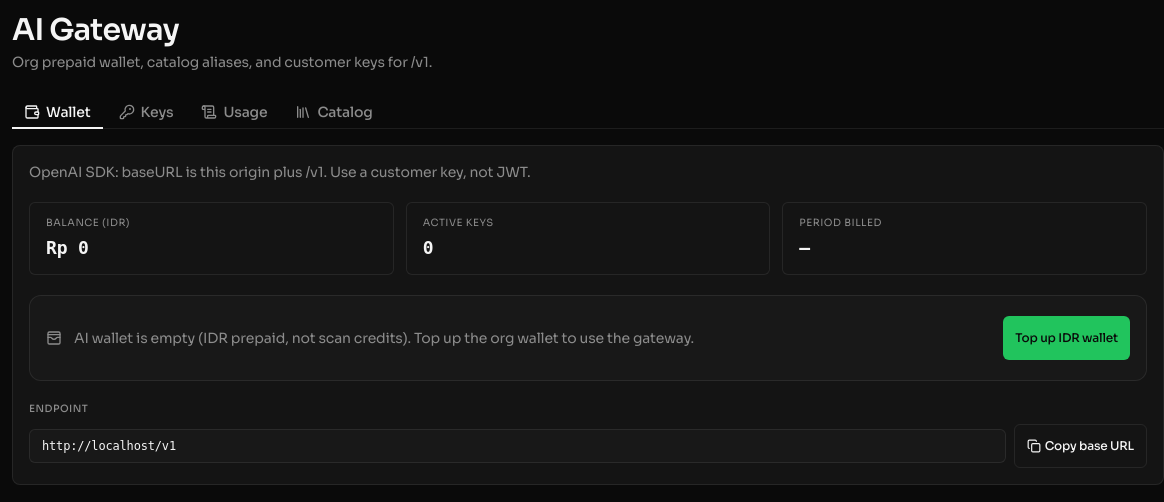
Test: AI Gateway page › keeps catalog card full-width when fewer than 3 models
Click the tab with test id "ai-tab-catalog": (334, 112) x1=283 y1=96 x2=385 y2=128
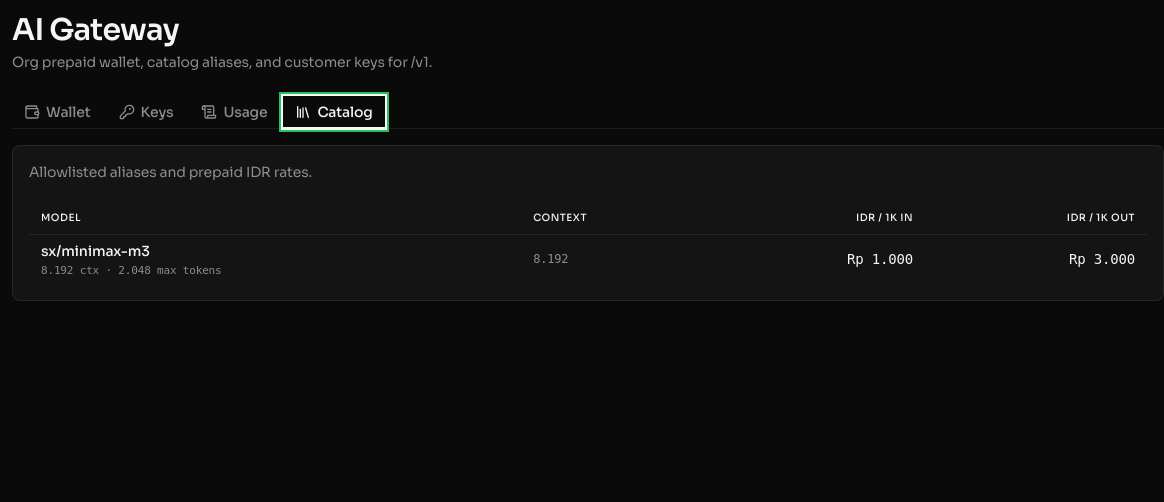
Expected: the table is shown, x1=29 y1=202 x2=1147 y2=284
